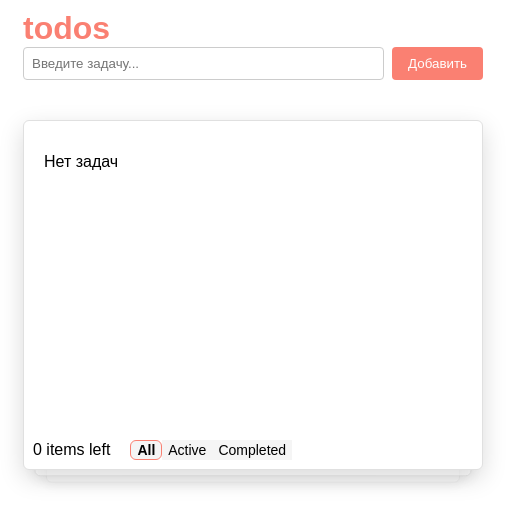
Test: Компонент Todo › Добавляет новую задачу
In the field with placeholder "Введите задачу...": (204, 64) [23, 47, 384, 80], type "Тестовая задача"
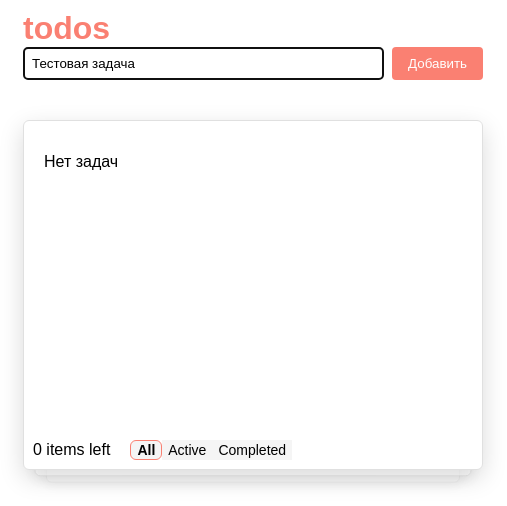
Click the button "Добавить": (438, 64) [392, 47, 483, 80]
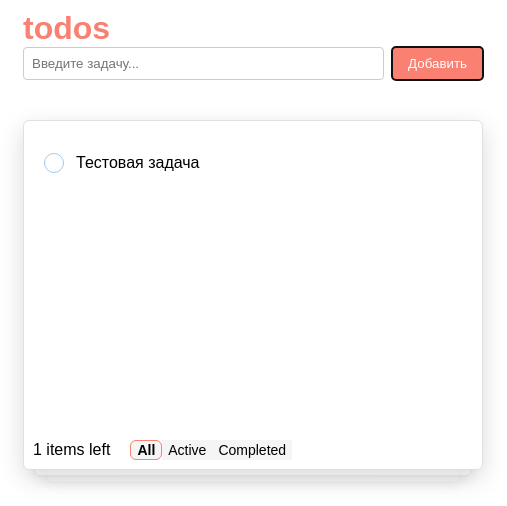
Check: the text "Тестовая задача" is shown, box [44, 153, 200, 173]
